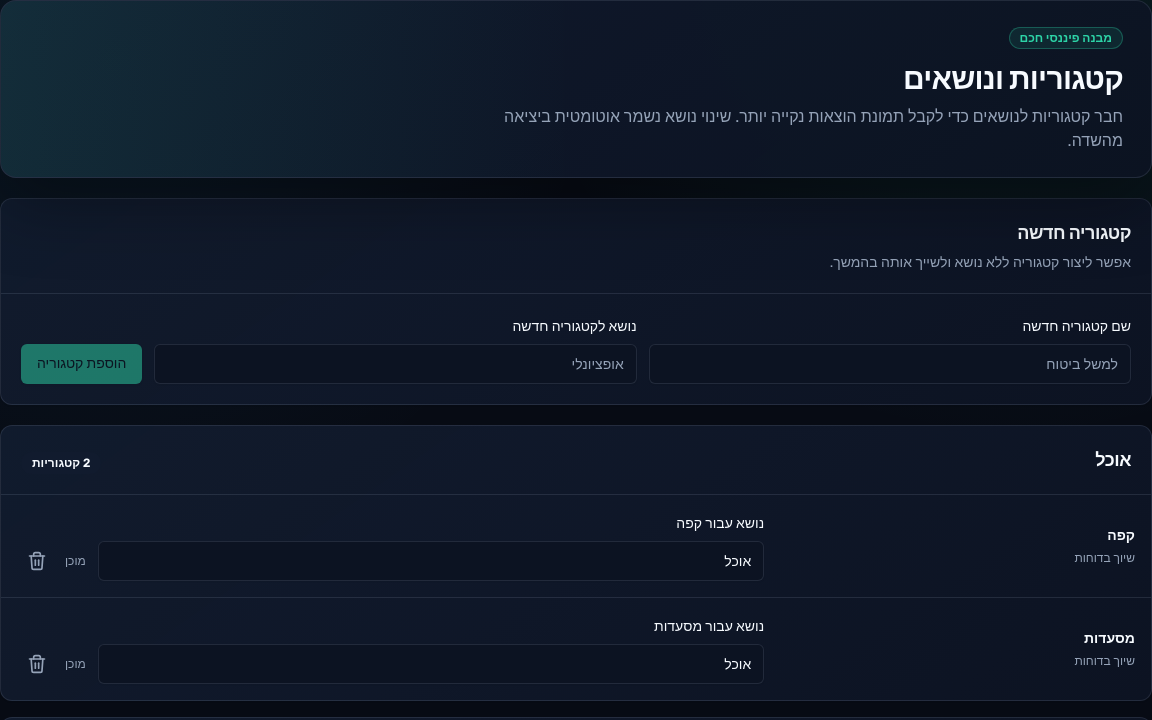
Test: requires explicit confirmation before deletion and surfaces backend errors
The image size is (1152, 720).
Click the button named "מחיקת קפה": (37, 561) top-left (17, 541), bottom-right (57, 581)
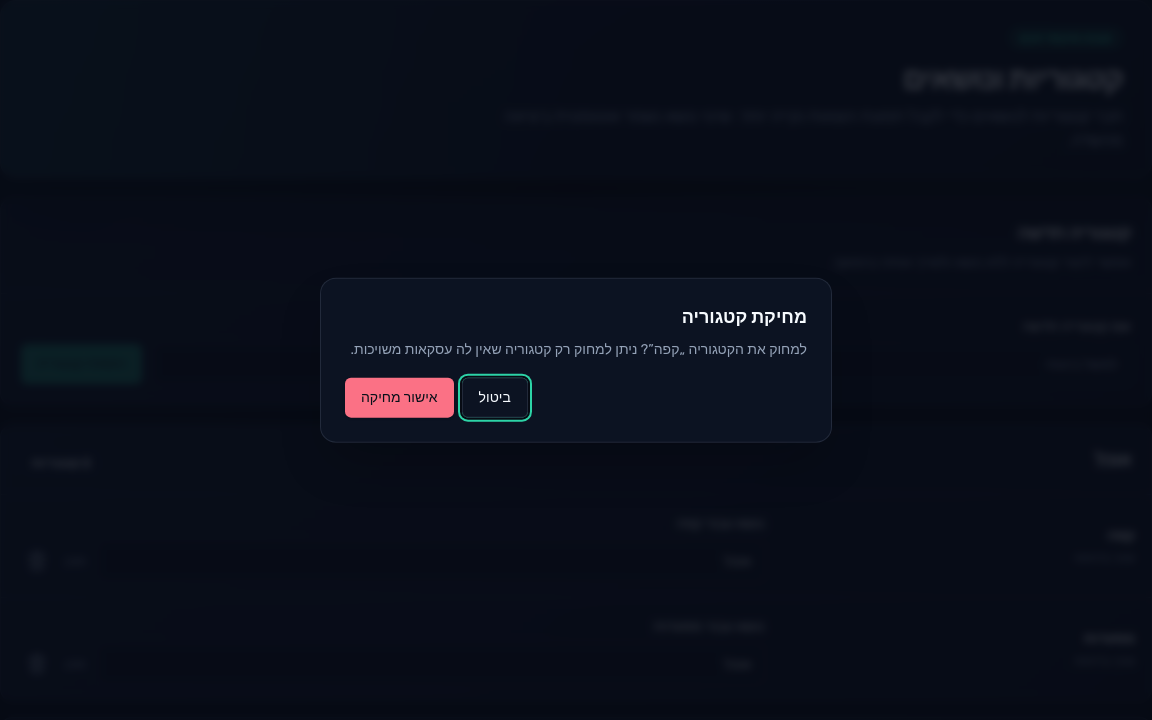
Click the button "אישור מחיקה": (399, 397) top-left (345, 377), bottom-right (454, 417)
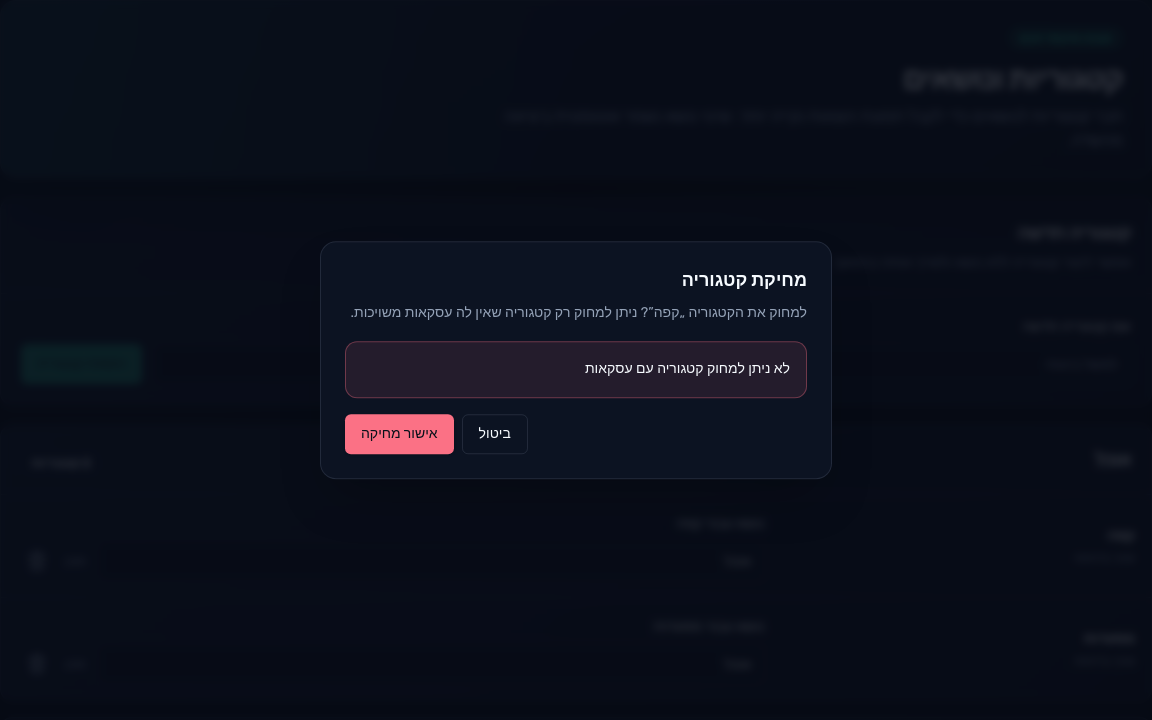
Result: the message reads "לא ניתן למחוק קטגוריה עם עסקאות" at top-left (585, 360), bottom-right (790, 377)
